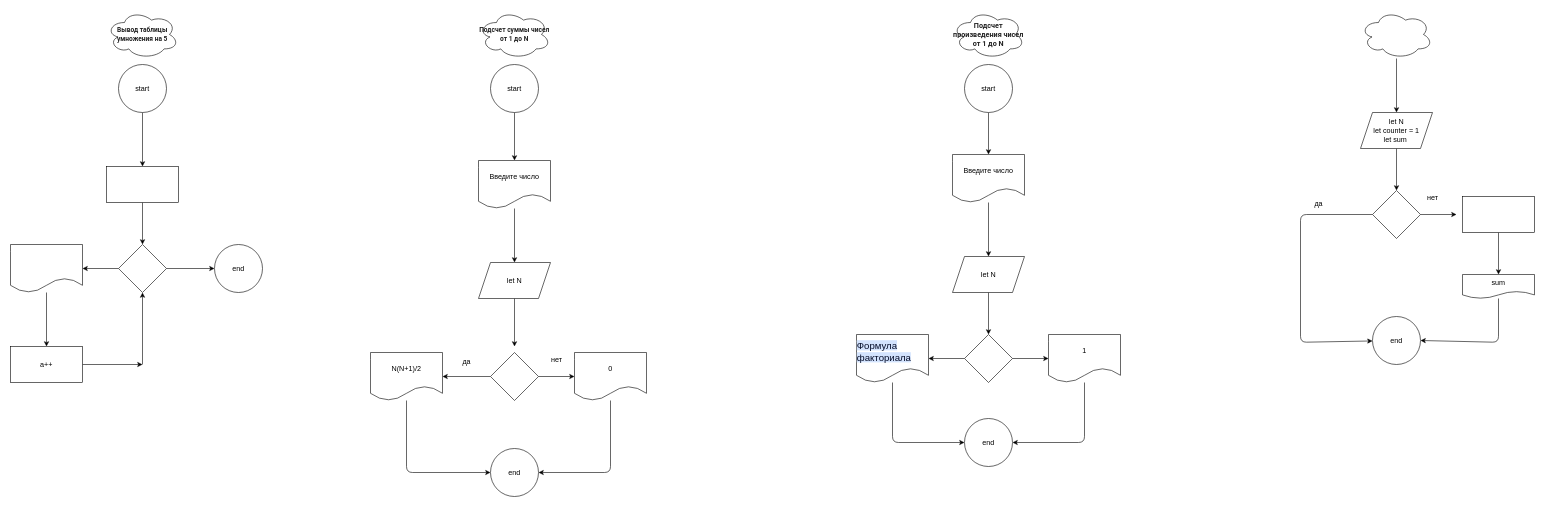
Some shapes in this 1545 by 507 pixel diagram are drawn without their labels. The shapes that lost their labels are listed below. From the top down, each one's box as (x1, y1, x2, y2) in pixels, then its label:
(1360, 10, 1432, 58): Вывод произведения чисел от 1 до 10, полученных при умножении их на число N
(106, 166, 178, 202): a = 1
(1372, 190, 1420, 238): counter > 10
(1462, 196, 1534, 232): sum = N * 5 counter ++
(10, 244, 82, 292): a*5
(118, 244, 166, 292): a <= 10
(490, 352, 538, 400): N > 0
(964, 334, 1012, 382): N>0
